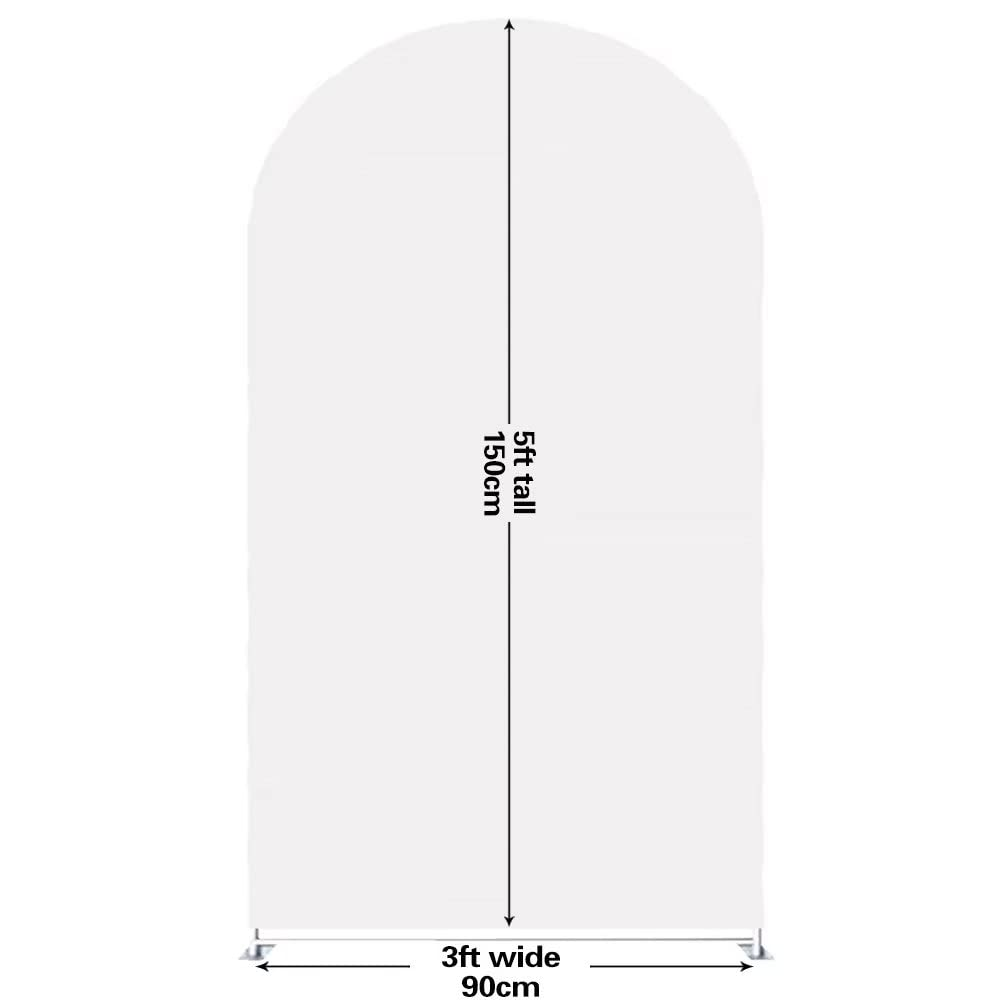YS: (514, 432, 536, 466)
